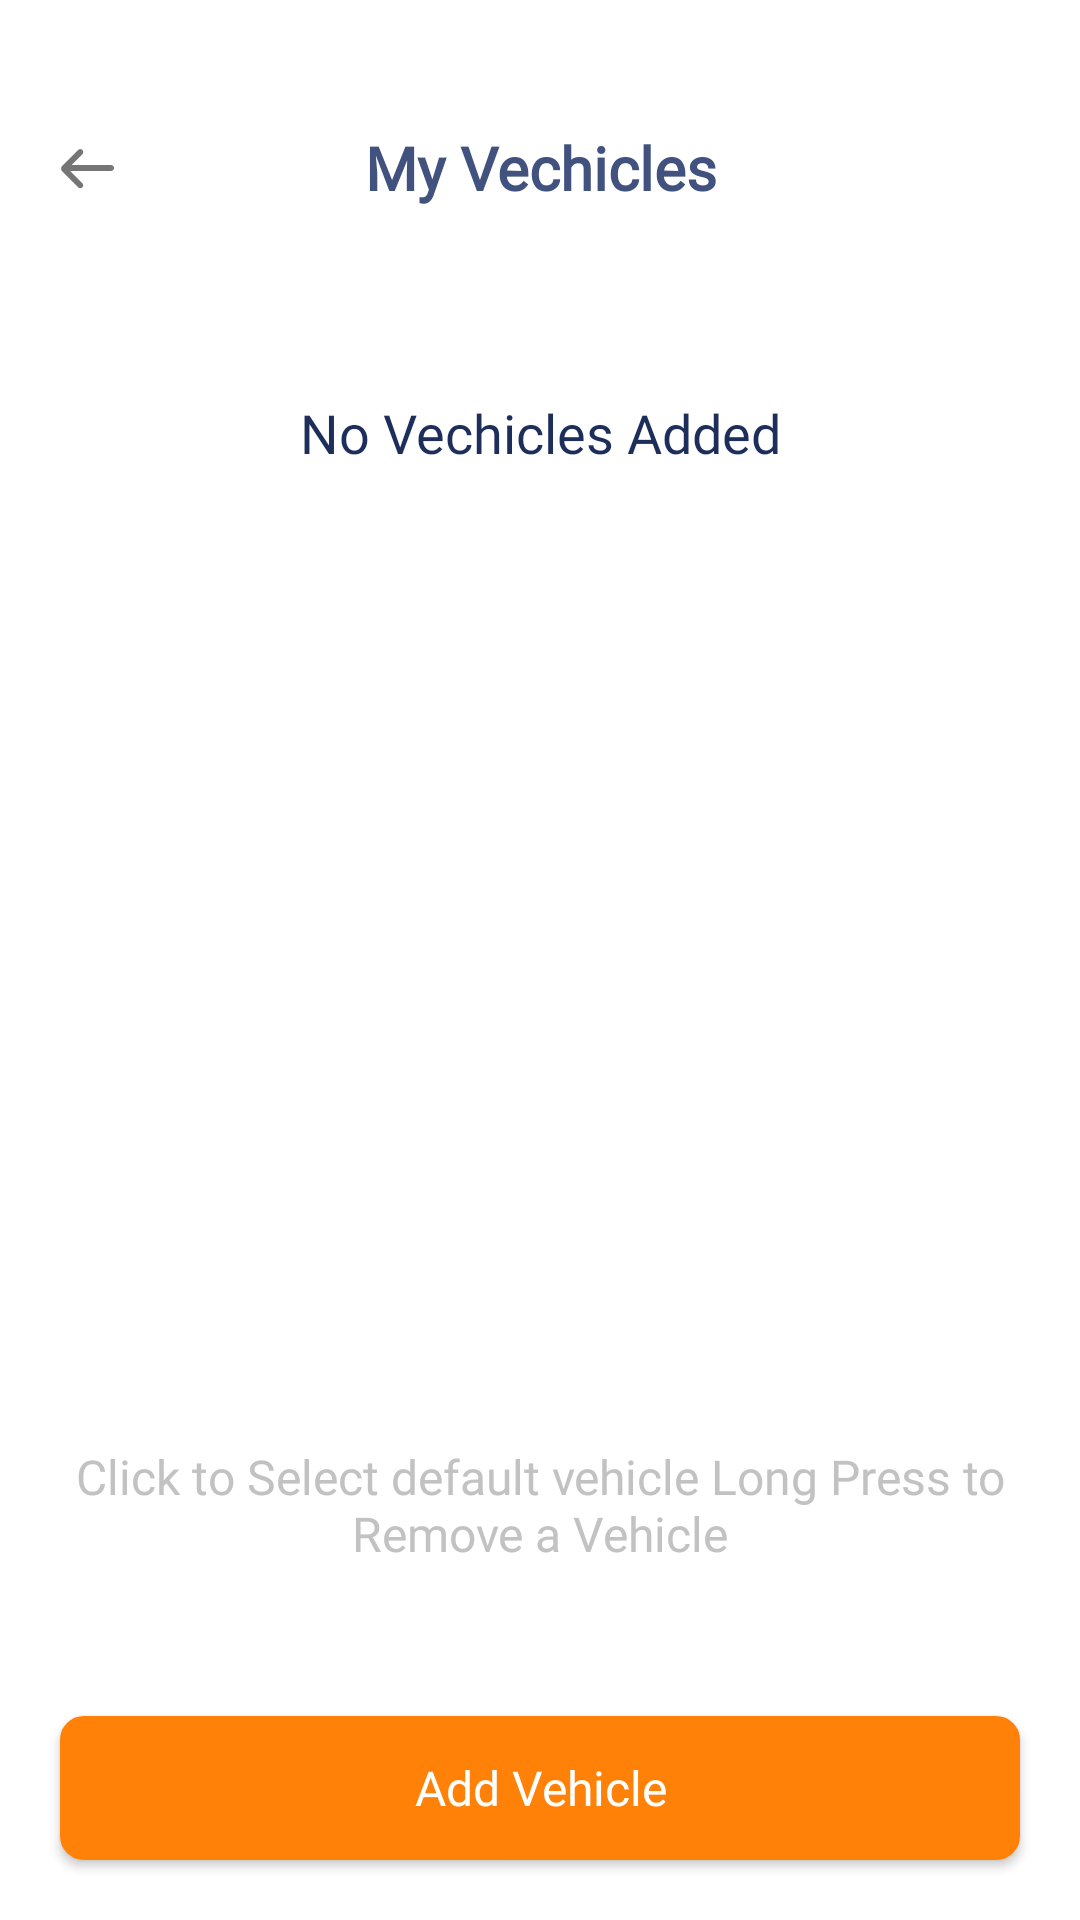

Where icons sit on this 1080px x 1920px app screen, as [left=x1, top=y1, right=x2, bottom=y2]:
back: [left=61, top=149, right=114, bottom=189]
